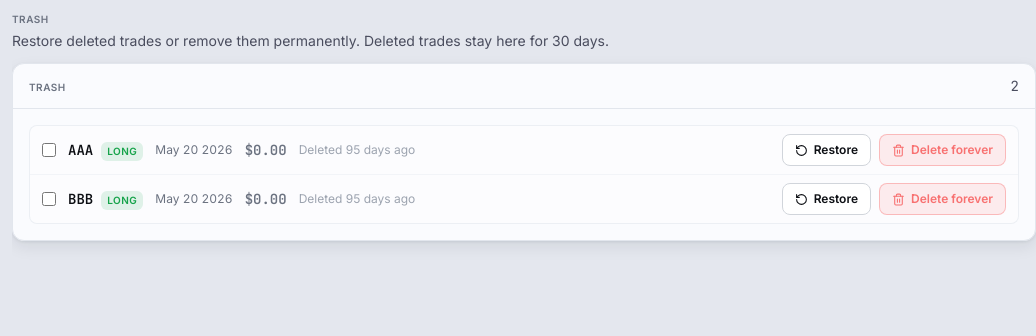
Test: TrashSection — bulk actions › surfaces an atomic bulk-restore reject on the bar and retains the selection
The image size is (1036, 336).
Expected: the text "AAA" is shown, top-left (68, 140), bottom-right (93, 160)
Click the checkbox named "Select AAA May 20 2026": (49, 150) top-left (42, 143), bottom-right (56, 157)
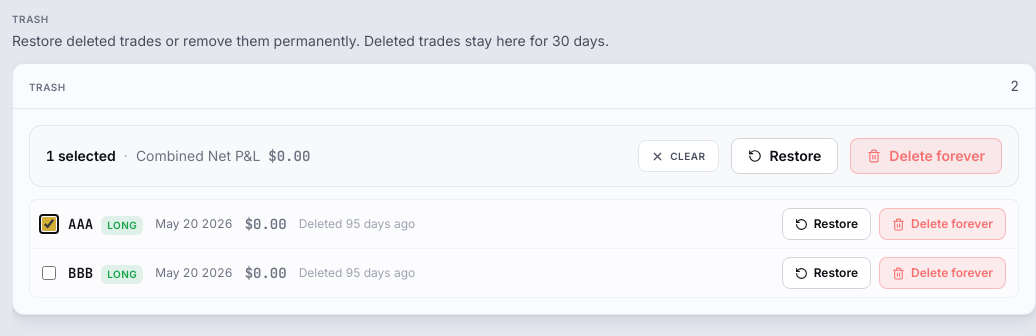
Click the checkbox named "Select BBB May 20 2026": (49, 273) top-left (42, 266), bottom-right (56, 280)
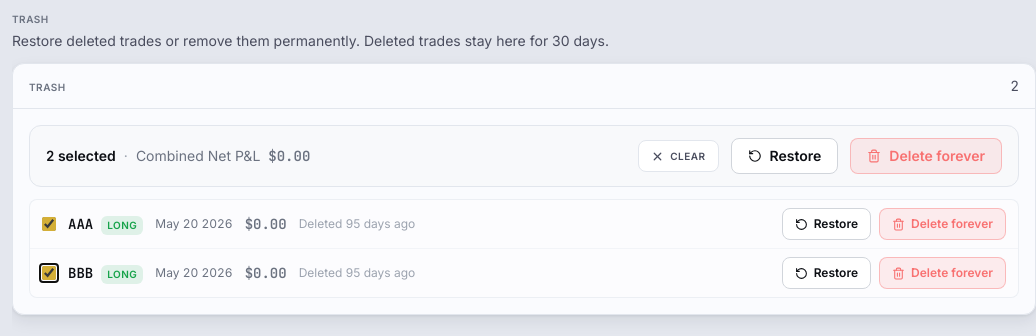
Click the button with aria-label "Restore selected": (784, 156) top-left (731, 138), bottom-right (838, 174)
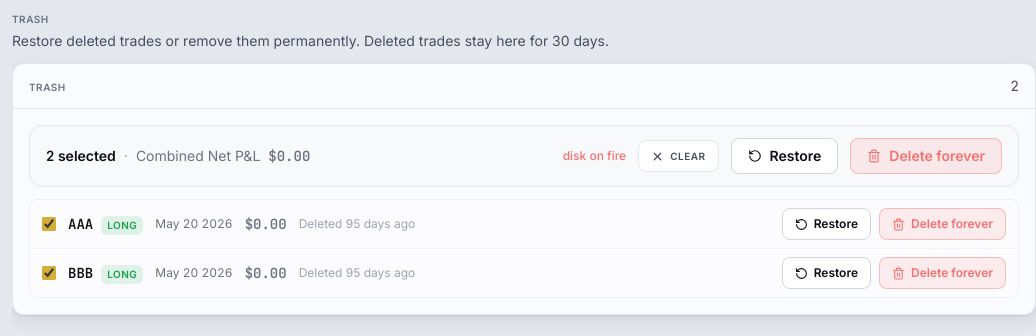
Expected: the text "AAA" is shown, top-left (68, 214), bottom-right (93, 234)
Now the text "Combined Net P&L" is shown, box top-left (136, 146), bottom-right (260, 166)
Now the text "disk on fire" is shown, box top-left (563, 148), bottom-right (626, 164)
